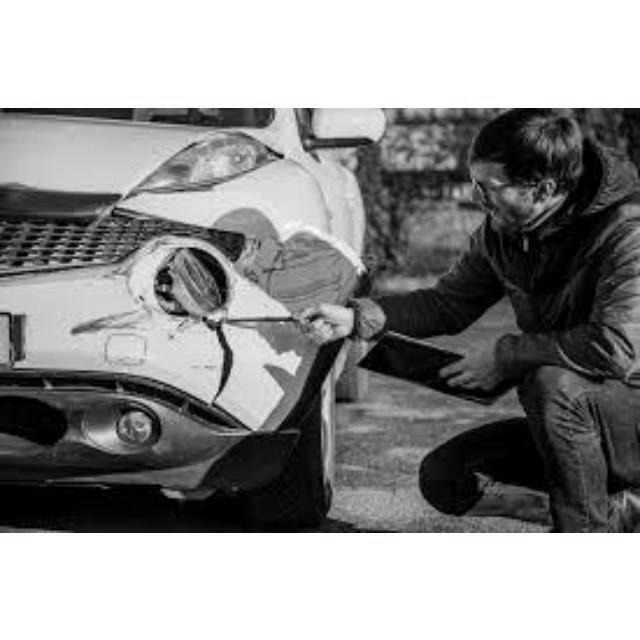front-bumper-dent: (0, 261, 314, 505)
